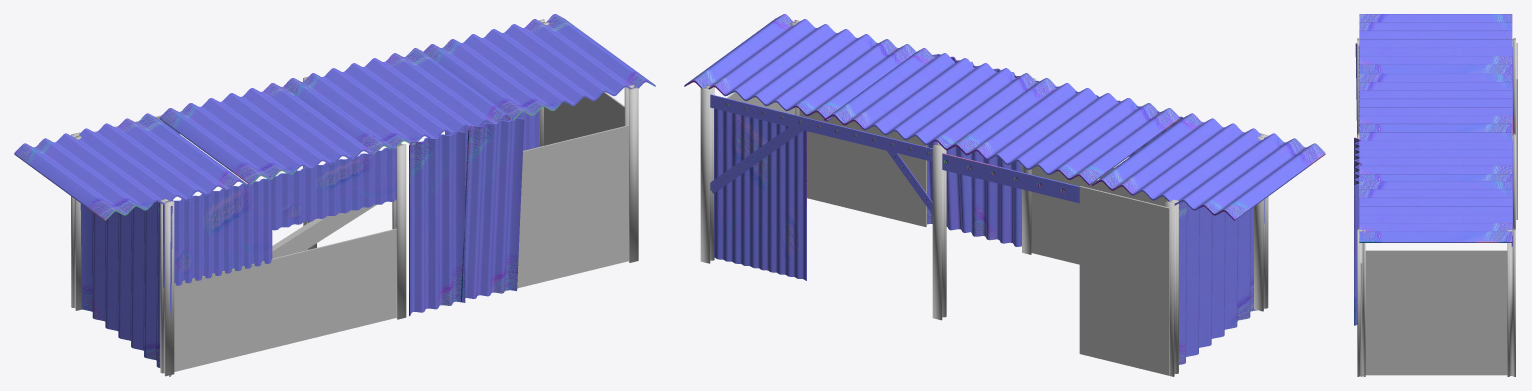
File: SlumHouse4.fbx
3 renders of one model, left to right at view 1: azimuth 30°, elevation 25°; view 2: azimuth 150°, elevation 25°; view 3: azimuth 270°, elevation 25°, orthographic. The views are drawn at different scales.
Visible parts, largest first — view 1: Support_4__1_, Support_4, Tin_sheet_4__4_, Tin_sheet_4__1_, Tin_sheet_4__2_, Tin_sheet_4__3_, Tin_sheet_4, Tin_sheet_1, Tin_sheet_1__1_, Tin_sheet_3__1_, Tin_sheet_3, Support_4__2_ (+6 smaller); view 2: Support_2, Tin_sheet_4__4_, Tin_sheet_3__2_, Tin_sheet_4__1_, Tin_sheet_4__2_, Tin_sheet_4__3_, Tin_sheet_4, Support_4, Support_4__1_, Tin_sheet_1, Metal_strip_3, Support_6__3_ (+8 smaller); view 3: Support_4__2_, Tin_sheet_4__1_, Tin_sheet_4__4_, Tin_sheet_4__3_, Tin_sheet_4__2_, Support_6, Support_6__1_, Tin_sheet_1__1_, Support_2, Support_4, Support_6__5_, Support_6__3_ (+2 smaller).
Boxes of the visible parts, bbox=[...] form: Support_4__1_: bbox=[174, 228, 396, 371]; Support_4: bbox=[505, 125, 628, 291]; Tin_sheet_4__4_: bbox=[14, 113, 247, 220]; Tin_sheet_4__1_: bbox=[423, 14, 655, 121]; Tin_sheet_4__2_: bbox=[283, 48, 515, 155]; Tin_sheet_4__3_: bbox=[159, 78, 391, 185]; Tin_sheet_4: bbox=[80, 200, 172, 376]; Tin_sheet_1: bbox=[409, 131, 465, 315]; Tin_sheet_1__1_: bbox=[461, 117, 524, 301]; Tin_sheet_3__1_: bbox=[163, 178, 272, 287]; Tin_sheet_3: bbox=[269, 146, 396, 230]; Support_4__2_: bbox=[544, 92, 624, 145]; Support_2: bbox=[1079, 186, 1169, 375]; Tin_sheet_4__4_: bbox=[1091, 113, 1325, 220]; Tin_sheet_3__2_: bbox=[714, 108, 806, 280]; Tin_sheet_4__1_: bbox=[684, 14, 916, 121]; Tin_sheet_4__2_: bbox=[823, 48, 1056, 155]; Tin_sheet_4__3_: bbox=[946, 78, 1179, 185]; Tin_sheet_4: bbox=[1179, 201, 1256, 364]; Support_4: bbox=[799, 110, 926, 226]; Support_4__1_: bbox=[1031, 166, 1167, 264]; Tin_sheet_1: bbox=[971, 61, 1021, 246]; Metal_strip_3: bbox=[710, 94, 932, 161]; Support_6__3_: bbox=[932, 142, 946, 320]; Support_4__2_: bbox=[1365, 250, 1507, 375]; Tin_sheet_4__1_: bbox=[1359, 181, 1512, 242]; Tin_sheet_4__4_: bbox=[1359, 14, 1512, 73]; Tin_sheet_4__3_: bbox=[1359, 73, 1512, 131]; Tin_sheet_4__2_: bbox=[1359, 123, 1512, 180]; Support_6: bbox=[1507, 228, 1515, 376]; Support_6__1_: bbox=[1357, 228, 1365, 376]; Tin_sheet_1__1_: bbox=[1354, 161, 1361, 325]; Support_2: bbox=[1516, 43, 1517, 219]; Support_4: bbox=[1360, 262, 1362, 376]; Support_6__5_: bbox=[1507, 38, 1515, 133]; Support_6__3_: bbox=[1512, 133, 1515, 228].
Bounding box in the file's own units: 356 × 111 × 109.
